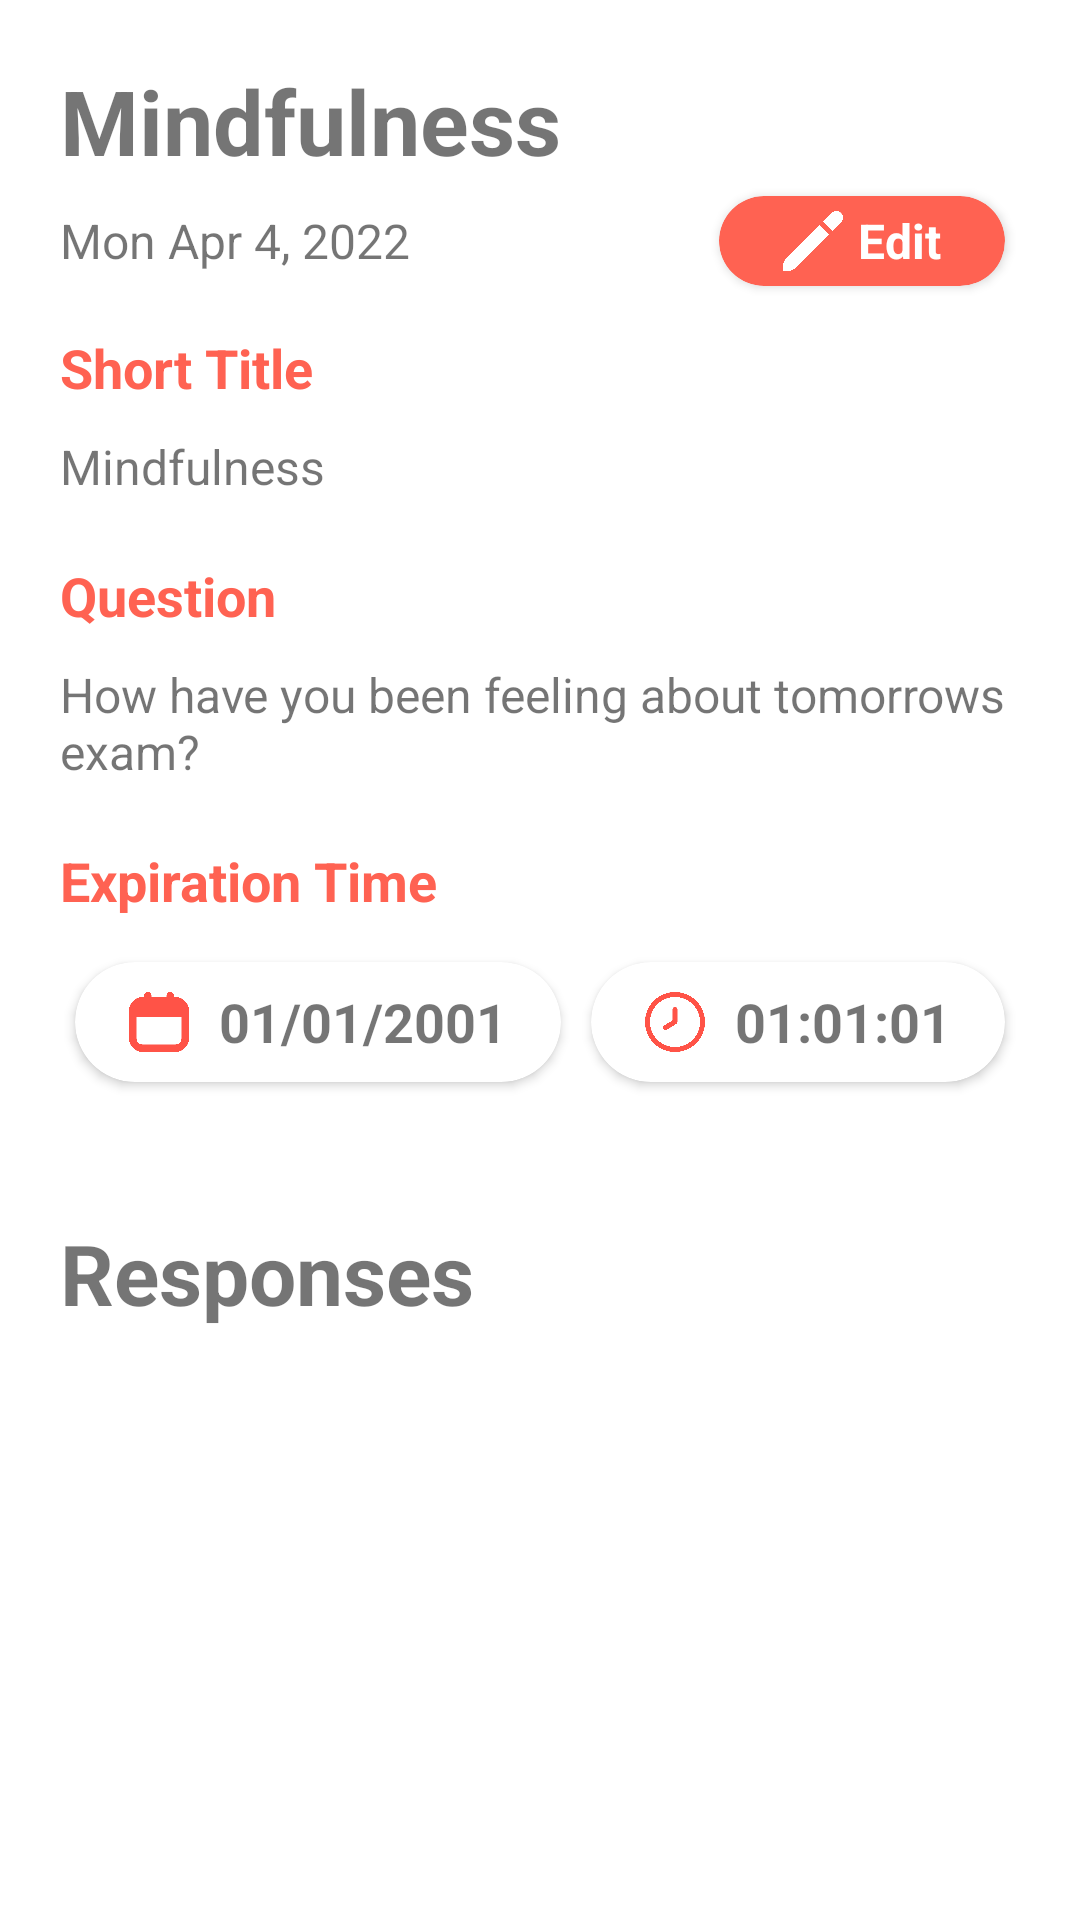

Icons on this 1080w x 1920h Android screen, each with the point to tap as (x,y):
date: (159,1022)
timebig: (675,1022)
